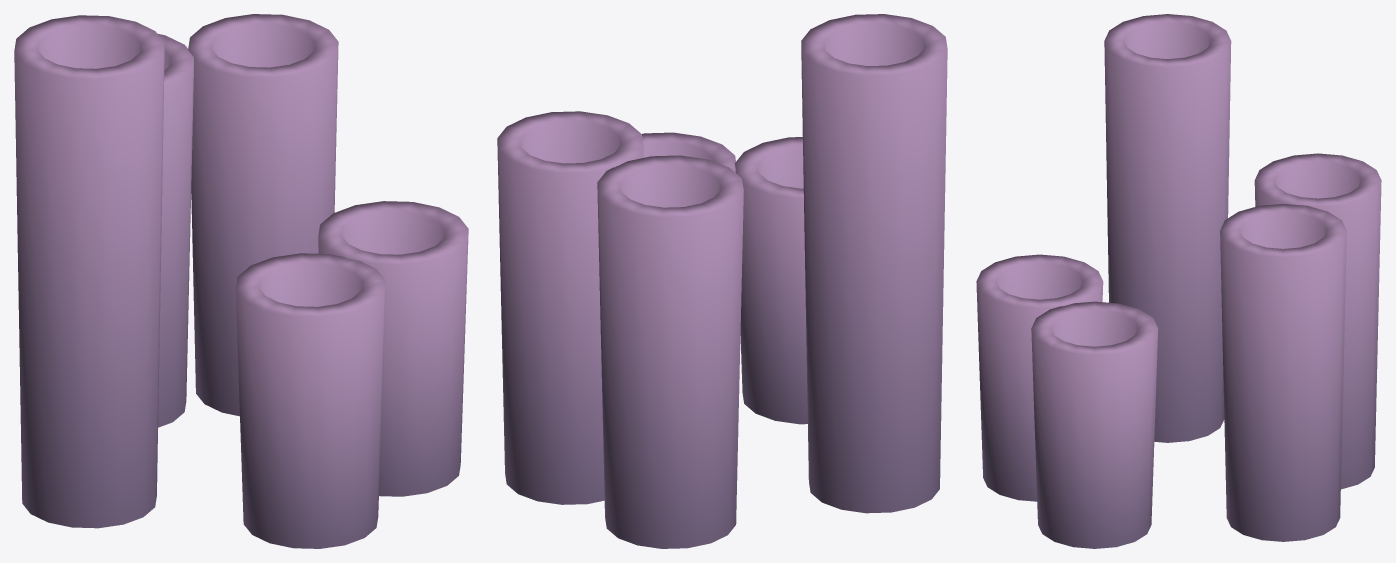
The model's file is reef_coral_2.glb.
3 renders of one model, left to right at view 1: azimuth 30°, elevation 25°; view 2: azimuth 150°, elevation 25°; view 3: azimuth 270°, elevation 25°, orthographic. The views are drawn at different scales.
Parts seen in each view (by area): view 1: reef_coral_2_painted_mesh; view 2: reef_coral_2_painted_mesh; view 3: reef_coral_2_painted_mesh.
Part boxes in pixels (x1=…): reef_coral_2_painted_mesh: x1=14, y1=14, x2=468, y2=548; reef_coral_2_painted_mesh: x1=497, y1=14, x2=947, y2=548; reef_coral_2_painted_mesh: x1=976, y1=14, x2=1381, y2=548.
Bounding box in the file's own units: 1.13 × 1.25 × 1.21.
